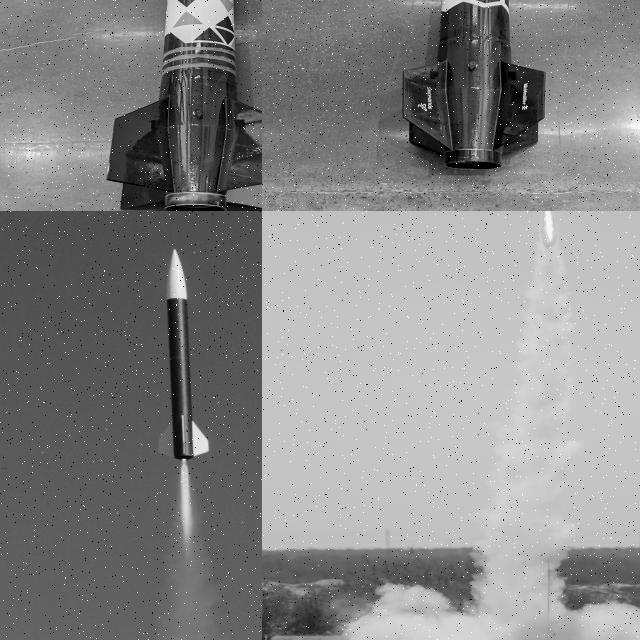Rocket: (105, 0, 262, 211), (402, 0, 546, 171), (156, 248, 210, 461)
